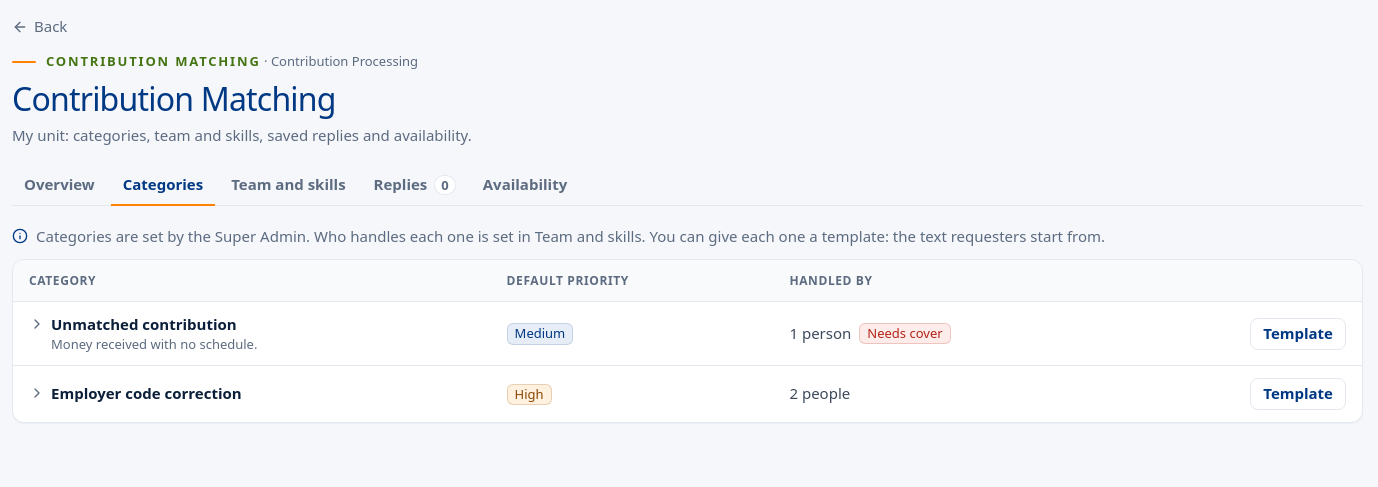
Test case: My unit (head) › Categories is read only: priority, people, Needs cover, and who handles a row (no timeline)
This screenshot has width=1378, height=487.
Expected: the row with test id "category-Unmatched contribution" does not show "24 h", [13,302,1362,366]
Expected: the row with test id "category-Unmatched contribution" shows "Medium", [515,324,565,342]
Click the button "Unmatched contribution Money received with no schedule.".
click(143, 334)  # box [29,314,258,353]
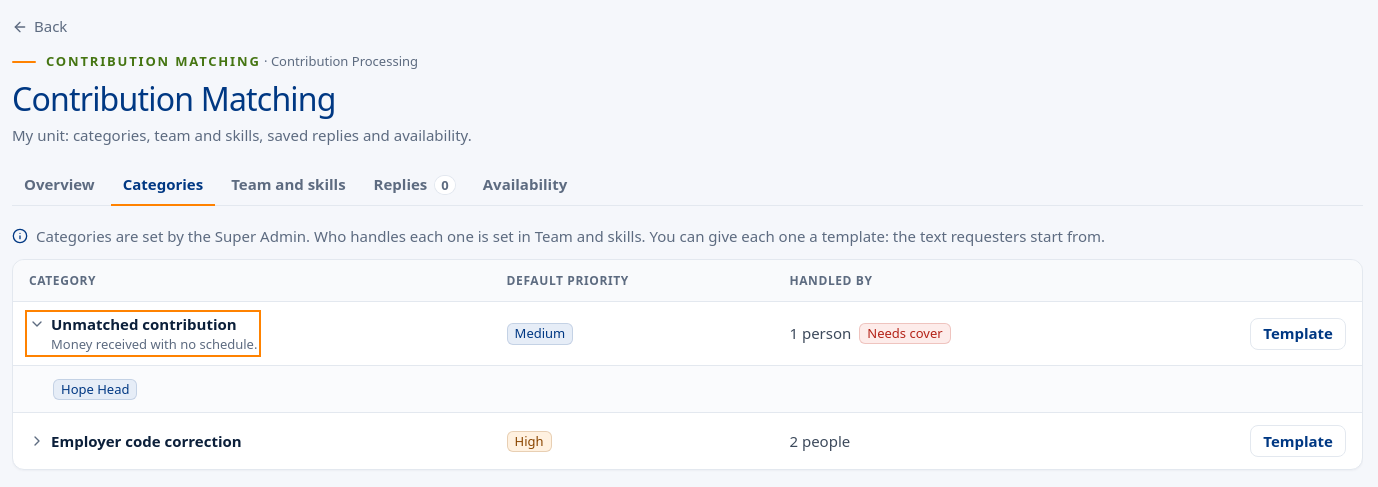
Now the text "Hope Head" is shown, box [53,379,138,400]
